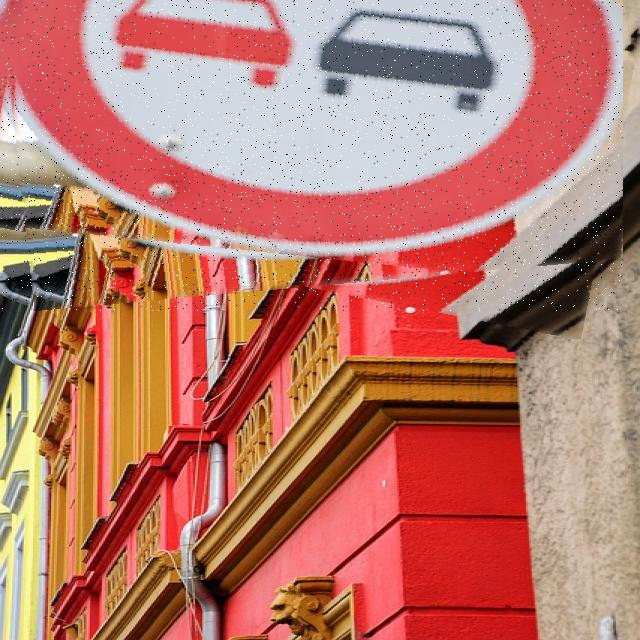no overtaking: (0, 0, 623, 311)
